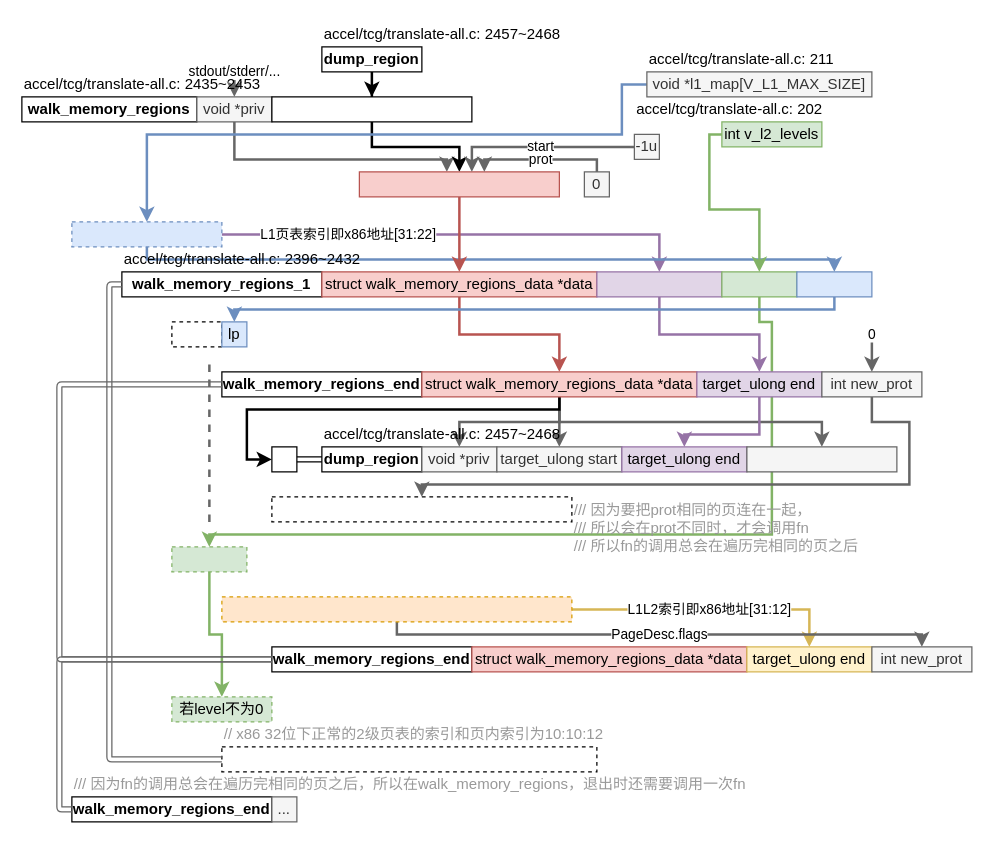
Some shapes in this 994 by 844 pixel diagram are drawn without their labels. The shapes that lost their labels are listed below. From the top down, each one's centre as x and y in pixels, then its label:
At (371,109): "walk_memory_regions_fn fn".
At (458,184): "walk_memory_regions_data".
At (146,234): "对于每一个L1表项".
At (659,284): "target_ulong base".
At (759,284): "int level".
At (834,284): "void **lp".
At (196,334): "若为空".
At (284,459): "fn".
At (821,459): "unsigned long prot".
At (421,509): "若new_prot非0则更新prot即表示该页在使用".
At (209,559): "若level为0".
At (396,609): "对于每一个L2表项，即页表描述符（PageDesc）".
At (409,759): "页表不止2级，在此递归调用 walk_memory_regions_1".
